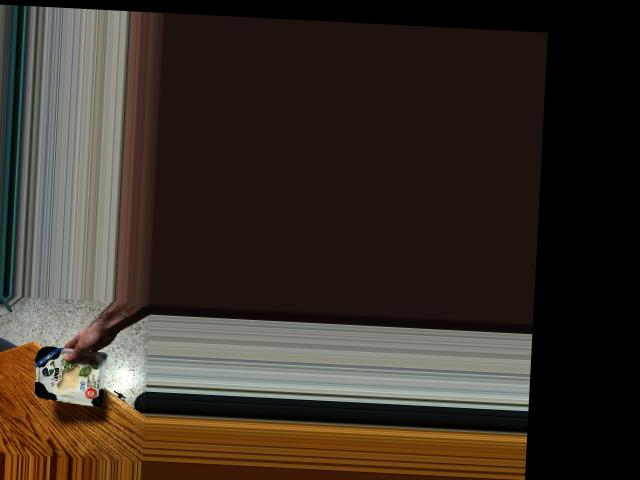cheese: (21, 347, 119, 407)
